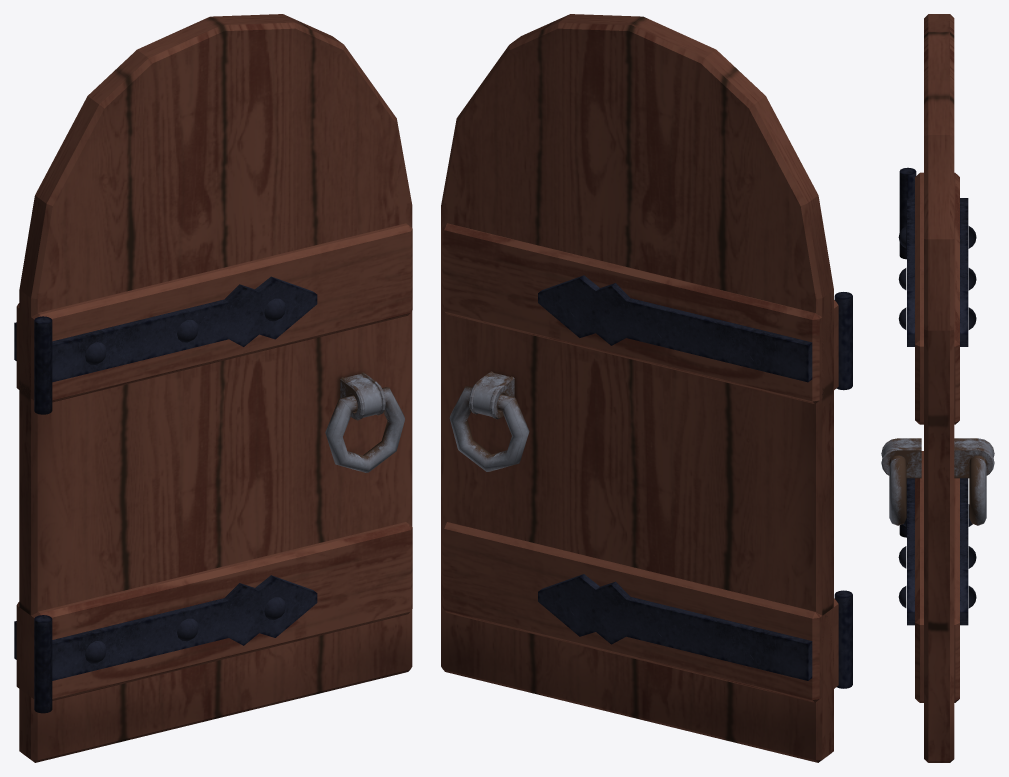
File: SmallDoor2.fbx
3 renders of one model, left to right at view 1: azimuth 30°, elevation 25°; view 2: azimuth 150°, elevation 25°; view 3: azimuth 270°, elevation 25°, orthographic. The views are drawn at different scales.
Visible parts, largest first — view 1: SmallDoor; view 2: SmallDoor; view 3: SmallDoor.
Boxes of the visible parts, x1,y1,x2,y2 form: SmallDoor: (14,14,412,762); SmallDoor: (441,14,852,762); SmallDoor: (881,14,994,762).
Bounding box in the file's own units: 58.37 × 99.57 × 15.82.
